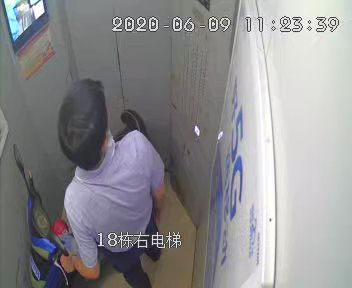Electric-bicycle: (11, 110, 151, 288)
